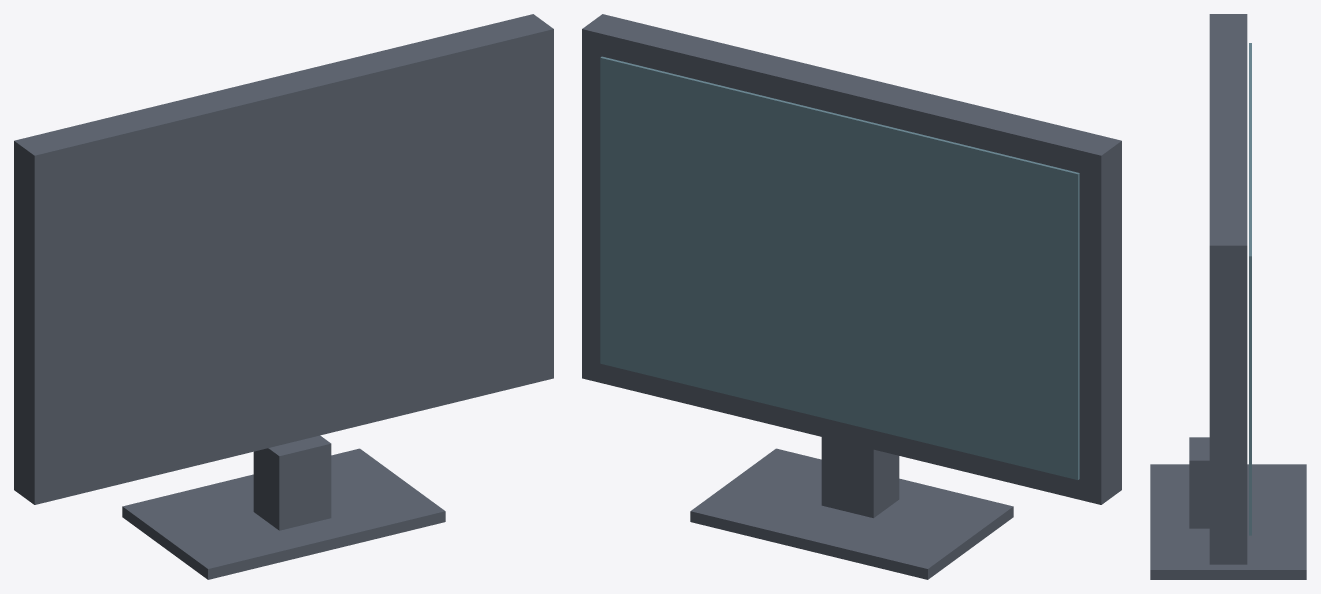
Rendered from chip4-lower-display.glb.
3 views of the same model, side by side, from view 1: azimuth 30°, elevation 25°; view 2: azimuth 150°, elevation 25°; view 3: azimuth 270°, elevation 25° (orthographic). The views are drawn at different scales.
Visible parts, largest first — view 1: black display frame, black stand foot, black stand neck; view 2: screen panel, black display frame, black stand foot, black stand neck; view 3: black display frame, black stand foot, black stand neck, screen panel.
Boxes of the visible parts, bbox=[...] form: black display frame: bbox=[14, 14, 553, 504]; black stand foot: bbox=[122, 448, 445, 579]; black stand neck: bbox=[253, 435, 331, 530]; screen panel: bbox=[600, 56, 1079, 479]; black display frame: bbox=[582, 14, 1121, 504]; black stand foot: bbox=[690, 448, 1013, 579]; black stand neck: bbox=[821, 437, 899, 518]; black display frame: bbox=[1209, 14, 1247, 564]; black stand foot: bbox=[1150, 464, 1306, 579]; black stand neck: bbox=[1189, 437, 1209, 528]; screen panel: bbox=[1249, 43, 1251, 535].
Bounding box in the file's own units: 0.35 × 0.28 × 0.1.
